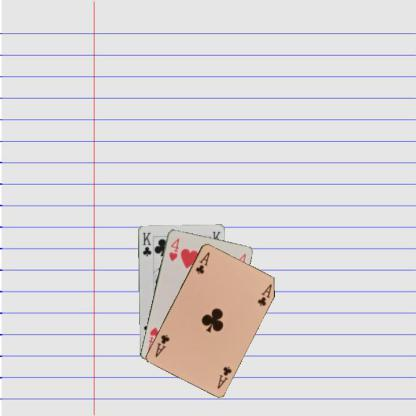4h: (166, 235, 181, 262)
Ac: (214, 363, 233, 390), (193, 249, 211, 275)
Kc: (140, 230, 152, 258)
